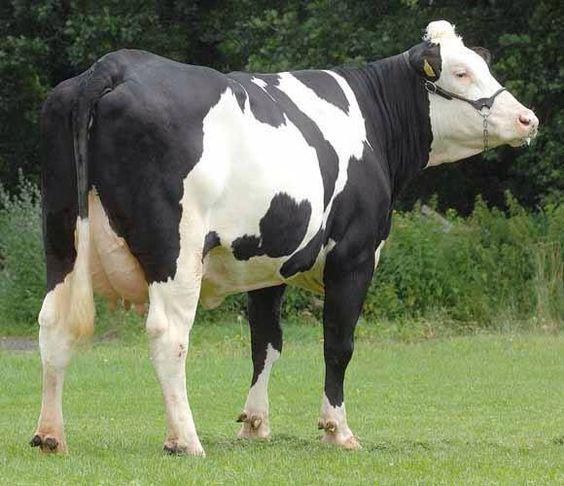cow: (20, 19, 561, 440)
